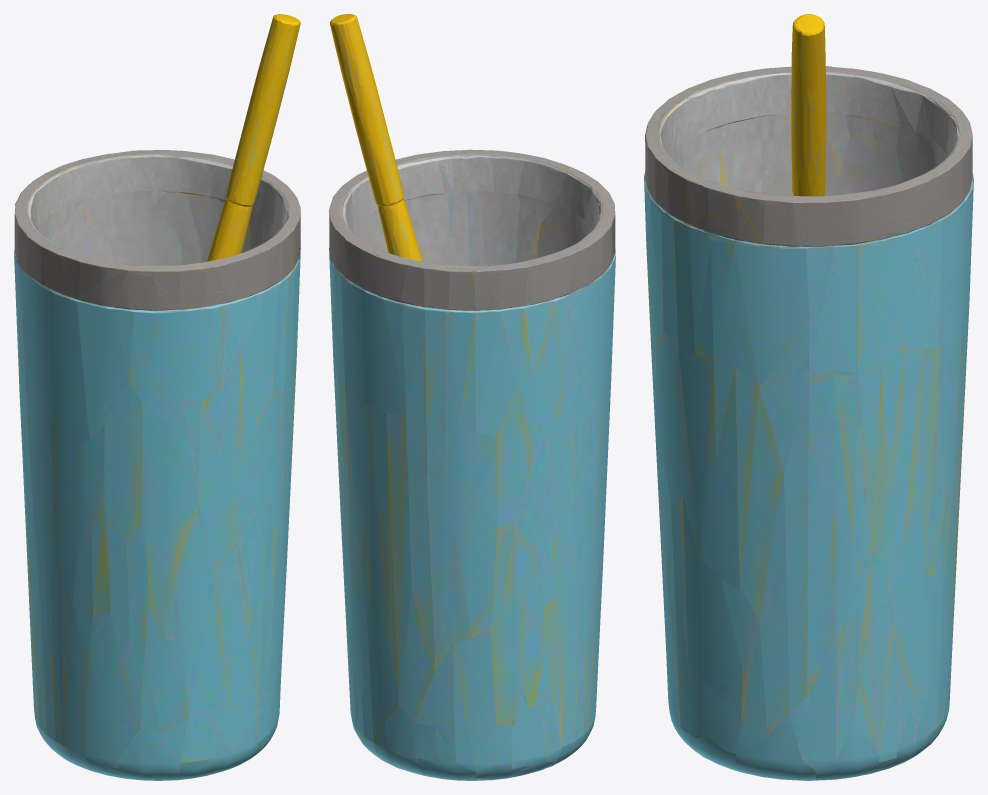
The model's file is addy_cup.glb.
3 renders of one model, left to right at view 1: azimuth 30°, elevation 25°; view 2: azimuth 150°, elevation 25°; view 3: azimuth 270°, elevation 25°, orthographic. The views are drawn at different scales.
Bounding box in the file's own units: 0.7605 × 1.9 × 0.7236.
Materials: 1 (1 with a texture image).
